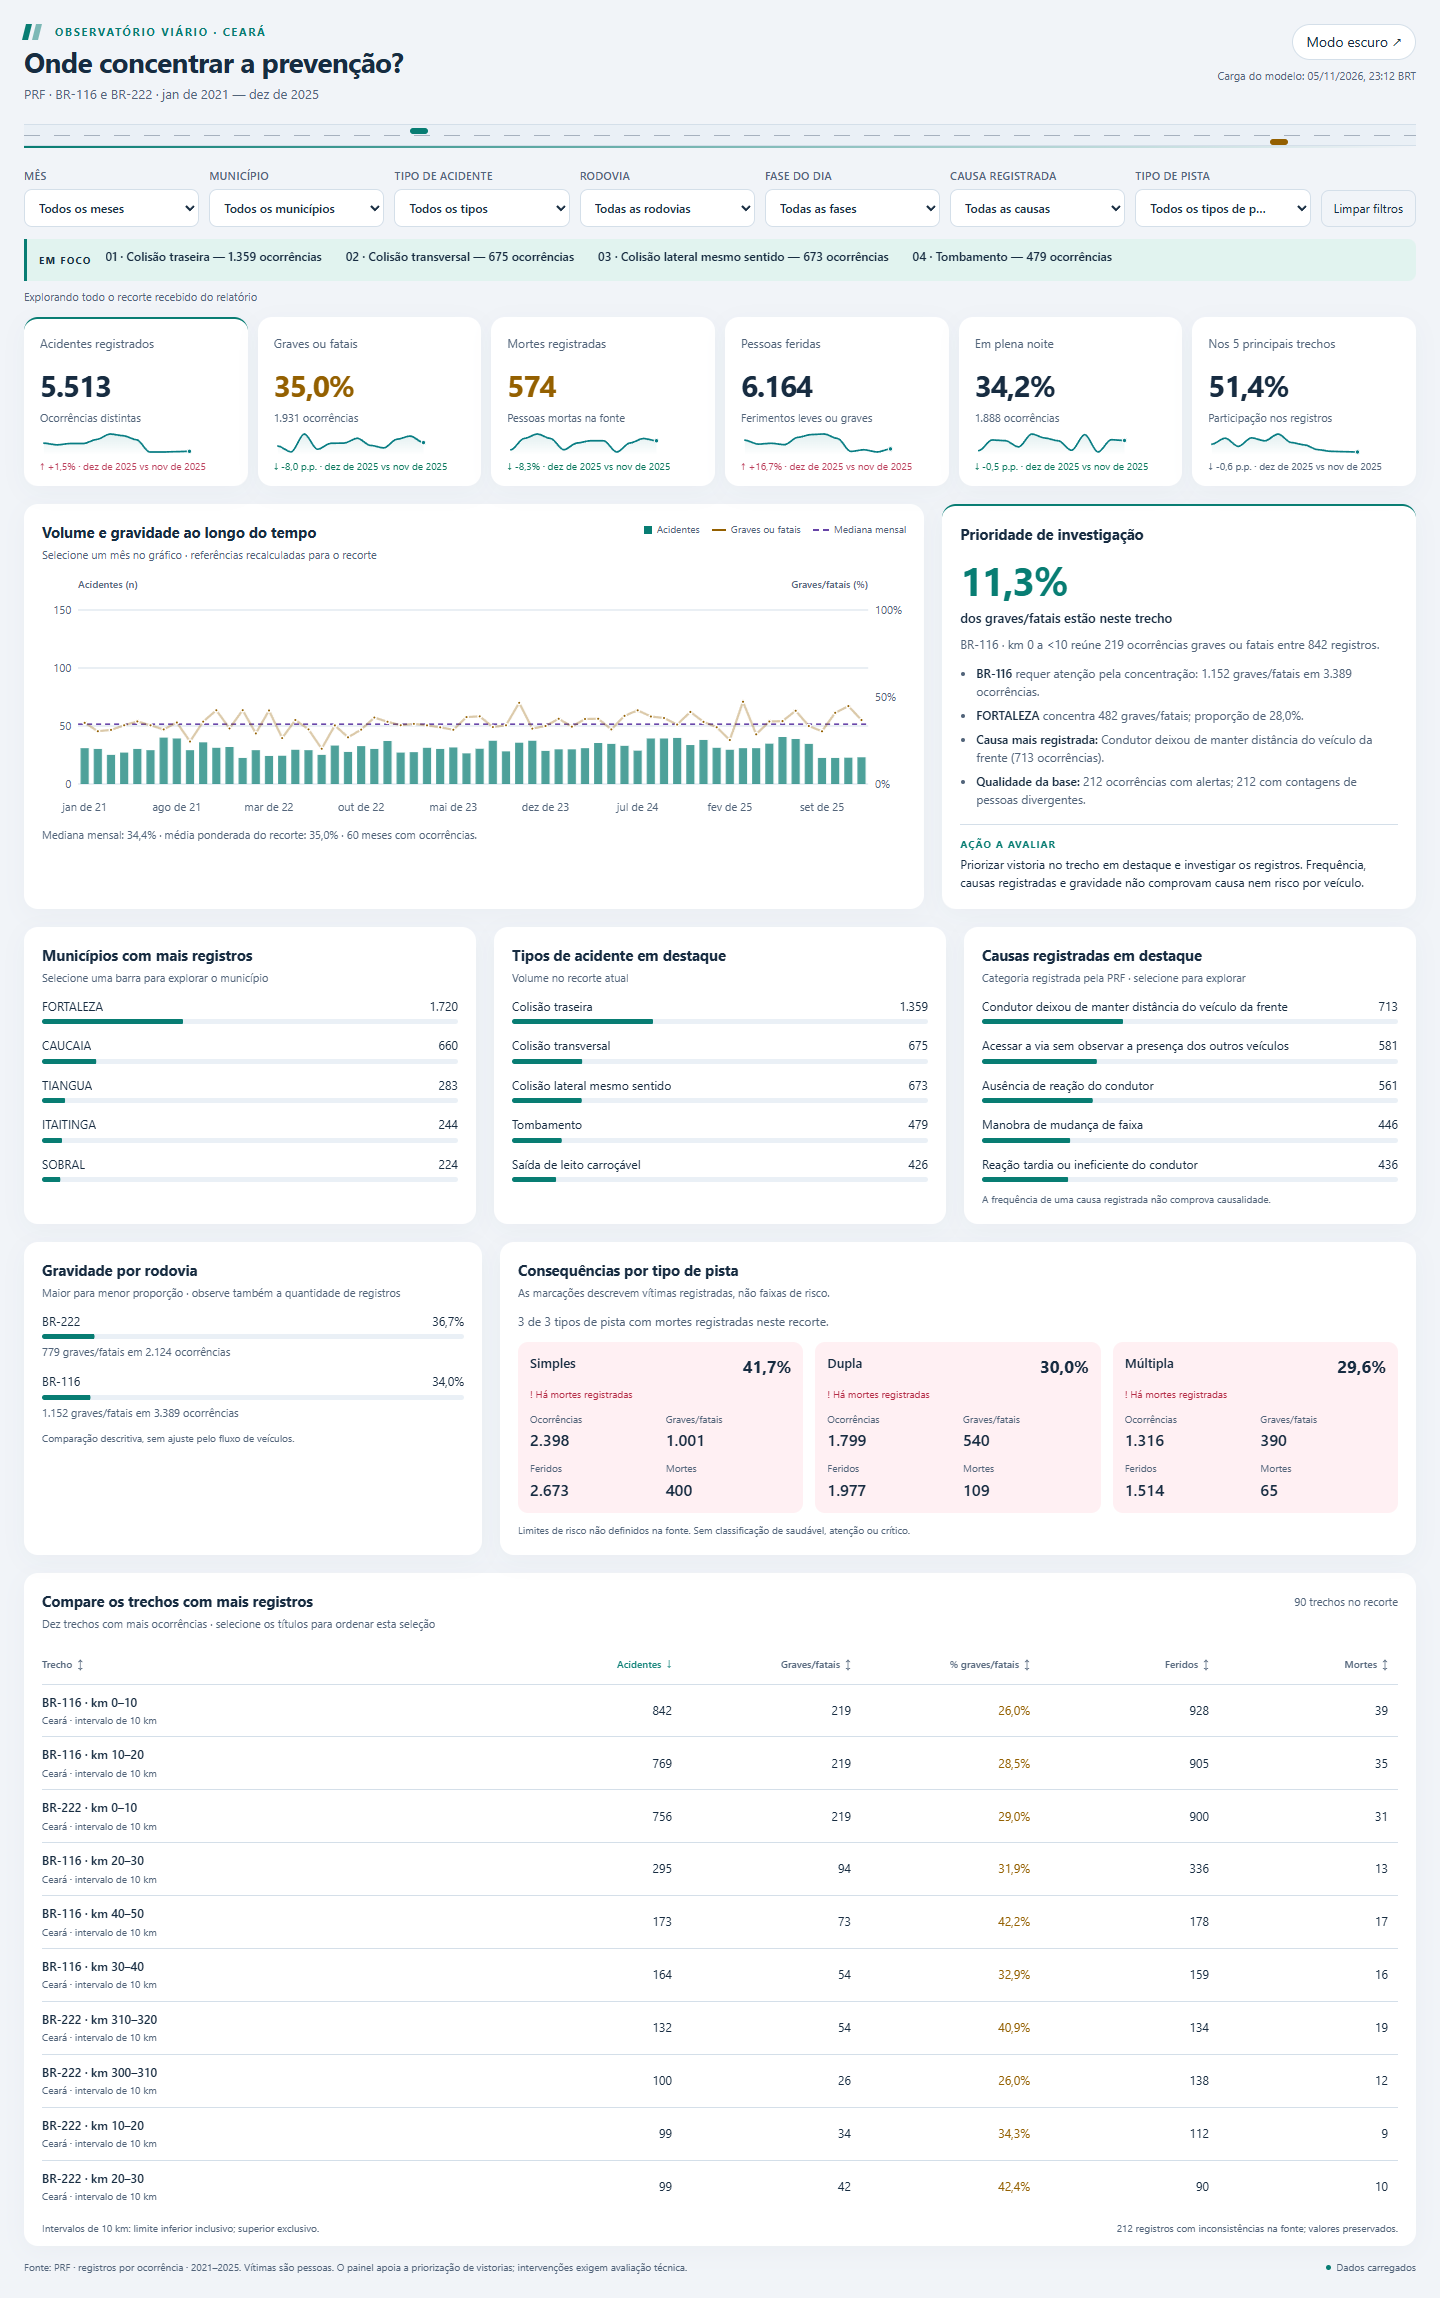

What the dashboard file says about the page in this screenshot:
{"tool":"powerbi","page":{"name":"Página 2","canvas":[1280,720],"ordinal":1},"visuals":[{"type":"htmlContent443BE3AD55E043BF878BED274D3A6855","fields":{"content":["fAcidentes.HTML Dashboard PRF"]},"box":[0,0,1279.8,720.2],"z":0}]}

Visuals, with their boxes on the page's 1280x720 design canvas (x1, y1, x2, y2). These are canvas units, not pixel positions in the 1440x2298 screenshot, which may show the page scaled, cropped or inside an application window:
htmlContent443BE3AD55E043BF878BED274D3A6855 - fAcidentes.HTML Dashboard PRF: <region>0, 0, 1280, 720</region>
